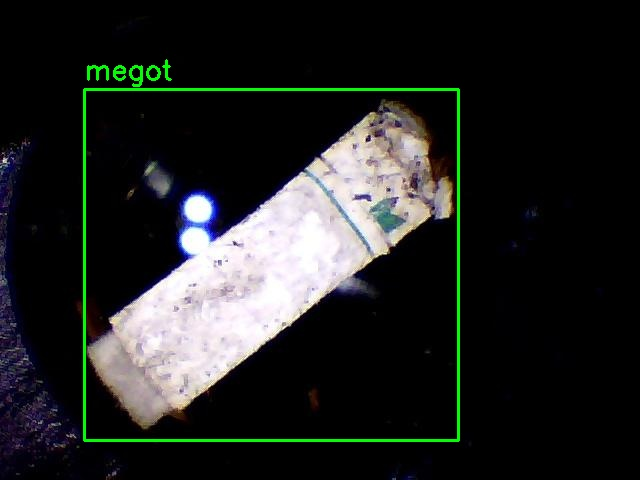megot: (84, 89, 458, 440)
